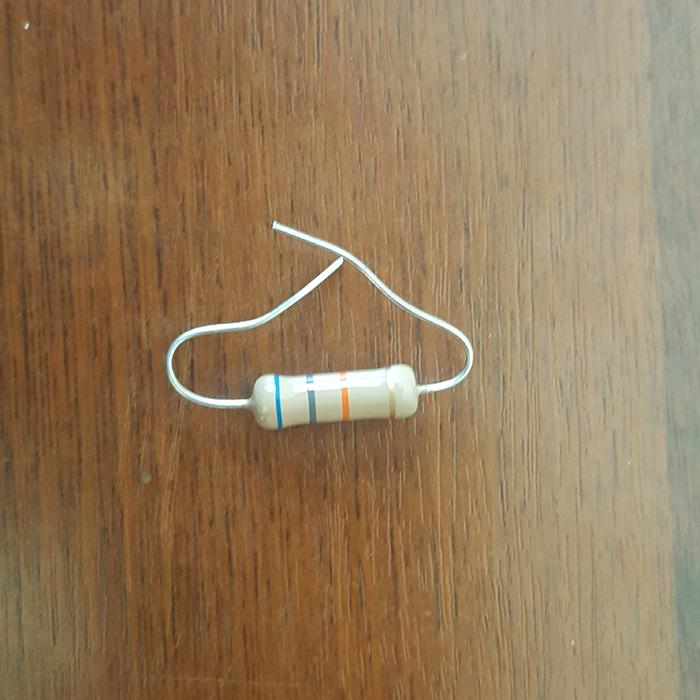resistor: (248, 363, 420, 429)
